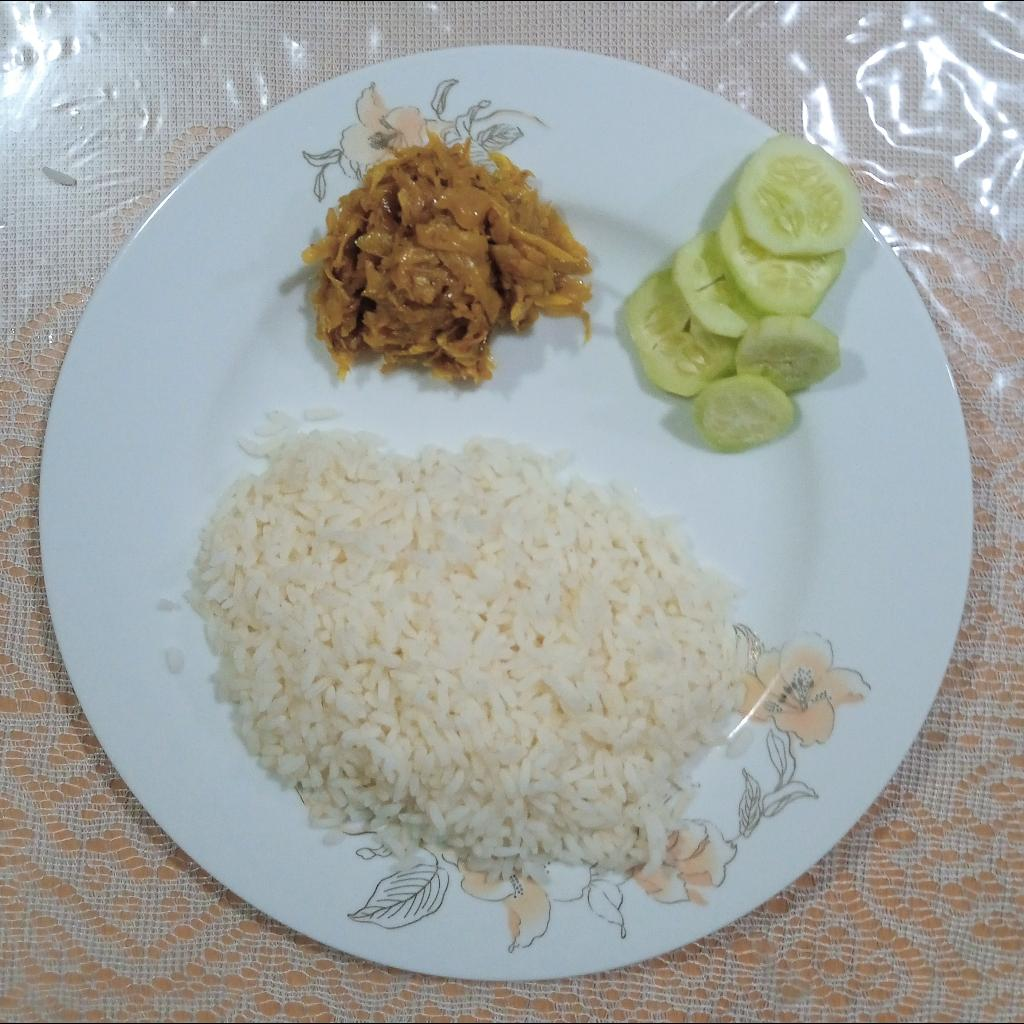cabbage: (298, 138, 601, 383)
cucumber: (622, 130, 866, 456)
rice: (192, 401, 759, 888)
